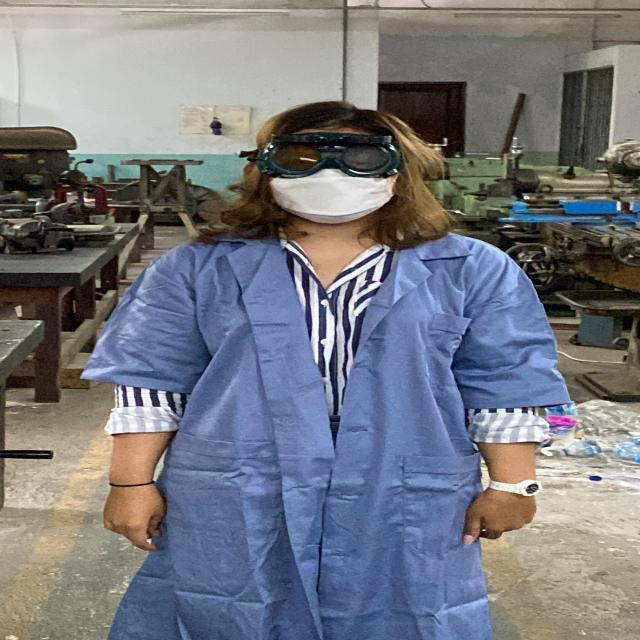glasses: (232, 130, 408, 180)
